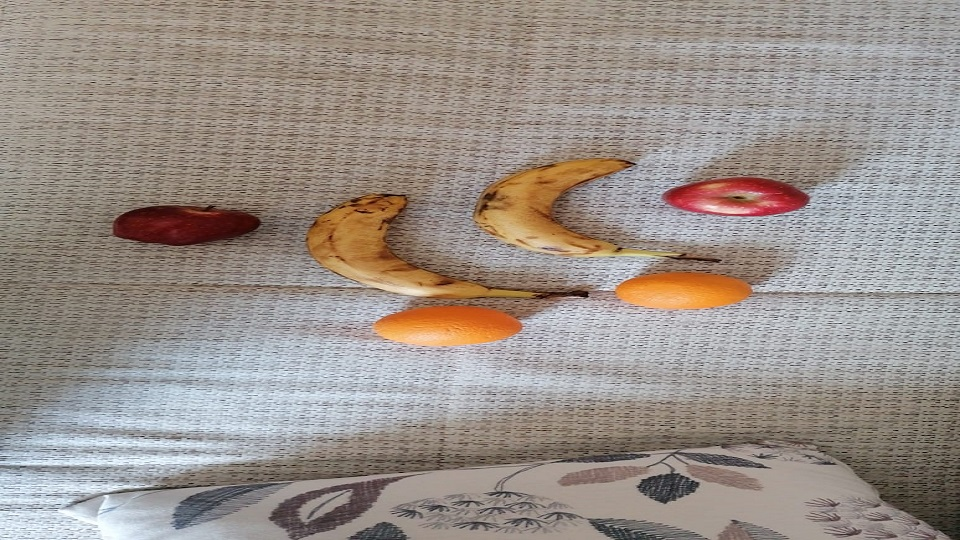elma: (112, 204, 262, 248), (661, 177, 810, 218)
muz: (306, 193, 576, 301), (473, 157, 653, 259)
portakal: (371, 305, 522, 347), (616, 272, 753, 309)
